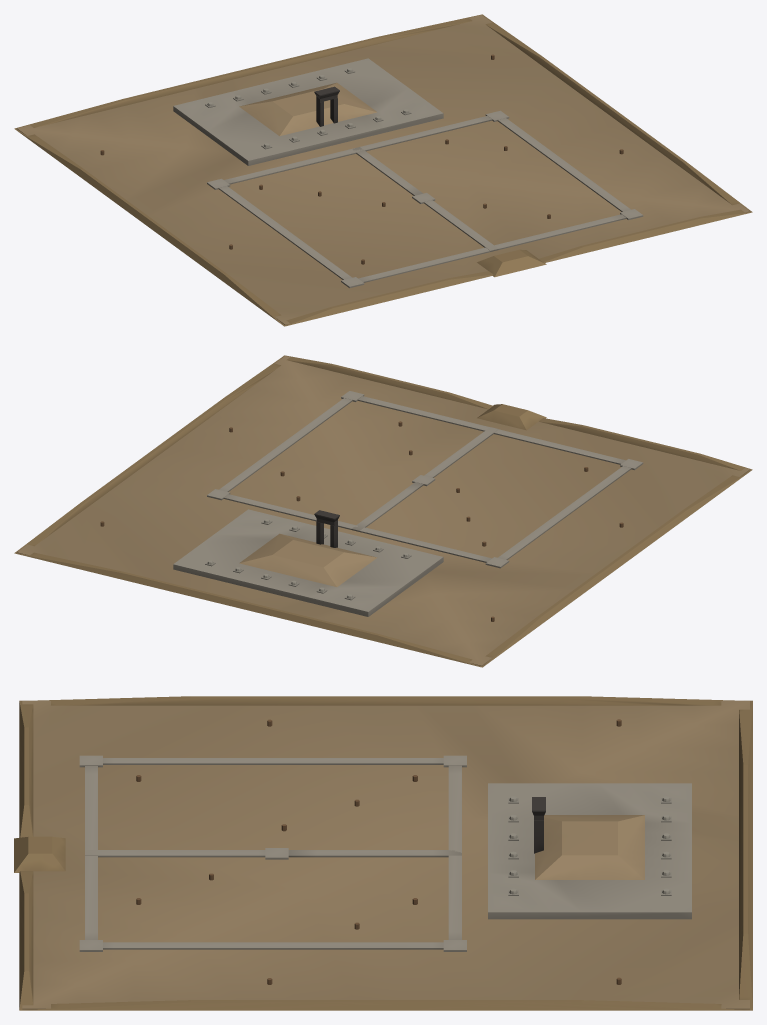
File: plain-palace-ruin.glb
3 views of the same model, one above another, from view 1: azimuth 30°, elevation 25°; view 2: azimuth 150°, elevation 25°; view 3: azimuth 270°, elevation 25° (orthographic). The views are drawn at different scales.
Parts seen in each view (by area): view 1: p0_garden, p2_pavilion; view 2: p0_garden, p2_pavilion; view 3: p0_garden, p2_pavilion.
Boxes of the visible parts, bbox=[...] form: p0_garden: bbox=[14, 14, 752, 326]; p2_pavilion: bbox=[173, 58, 546, 277]; p0_garden: bbox=[14, 355, 752, 667]; p2_pavilion: bbox=[173, 404, 546, 616]; p0_garden: bbox=[19, 696, 752, 1010]; p2_pavilion: bbox=[14, 783, 691, 919].
Size of the model in its own units: 101 by 7.86 by 102.
